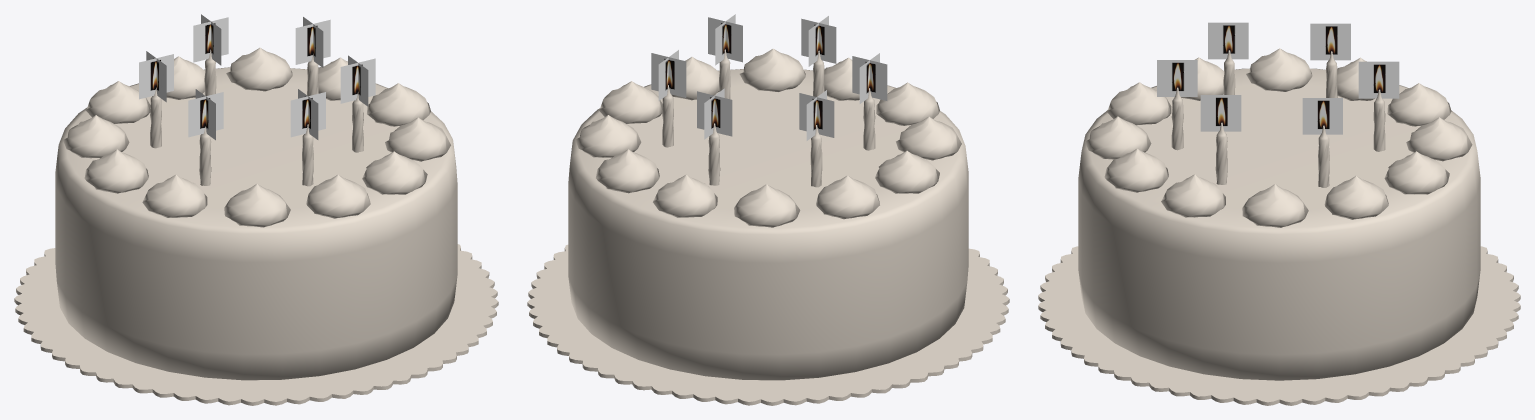
The model's file is cake_forSketchfab.fbx.
3 views of the same model, side by side, from view 1: azimuth 30°, elevation 25°; view 2: azimuth 150°, elevation 25°; view 3: azimuth 270°, elevation 25° (orthographic).
Parts seen in each view (by area): view 1: CakeBody_Mesh_Low, CakeSwirls_Mesh_Low, CakeBase_Mesh_Low, CakeCandleFlames_Mesh, CakeCandles_Mesh_Low; view 2: CakeBody_Mesh_Low, CakeSwirls_Mesh_Low, CakeBase_Mesh_Low, CakeCandleFlames_Mesh, CakeCandles_Mesh_Low; view 3: CakeBody_Mesh_Low, CakeSwirls_Mesh_Low, CakeBase_Mesh_Low, CakeCandleFlames_Mesh, CakeCandles_Mesh_Low.
Boxes of the visible parts, <box> form: CakeBody_Mesh_Low: <box>55,67,457,380</box>; CakeSwirls_Mesh_Low: <box>63,47,450,227</box>; CakeBase_Mesh_Low: <box>14,244,498,405</box>; CakeCandleFlames_Mesh: <box>139,14,375,140</box>; CakeCandles_Mesh_Low: <box>150,49,363,186</box>; CakeBody_Mesh_Low: <box>568,69,968,380</box>; CakeSwirls_Mesh_Low: <box>575,48,961,227</box>; CakeBase_Mesh_Low: <box>527,244,1009,405</box>; CakeCandleFlames_Mesh: <box>651,14,887,140</box>; CakeCandles_Mesh_Low: <box>662,49,875,187</box>; CakeBody_Mesh_Low: <box>1078,68,1480,380</box>; CakeSwirls_Mesh_Low: <box>1085,48,1472,227</box>; CakeBase_Mesh_Low: <box>1038,246,1520,405</box>; CakeCandleFlames_Mesh: <box>1157,22,1399,134</box>; CakeCandles_Mesh_Low: <box>1171,50,1385,187</box>.
Size of the model in its own units: 466 by 260 by 466.
